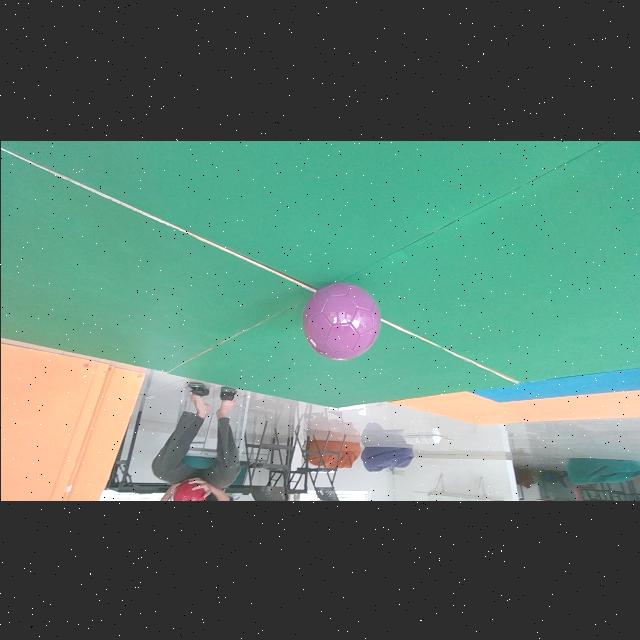P: (302, 282, 379, 359)
R: (172, 479, 204, 500)
